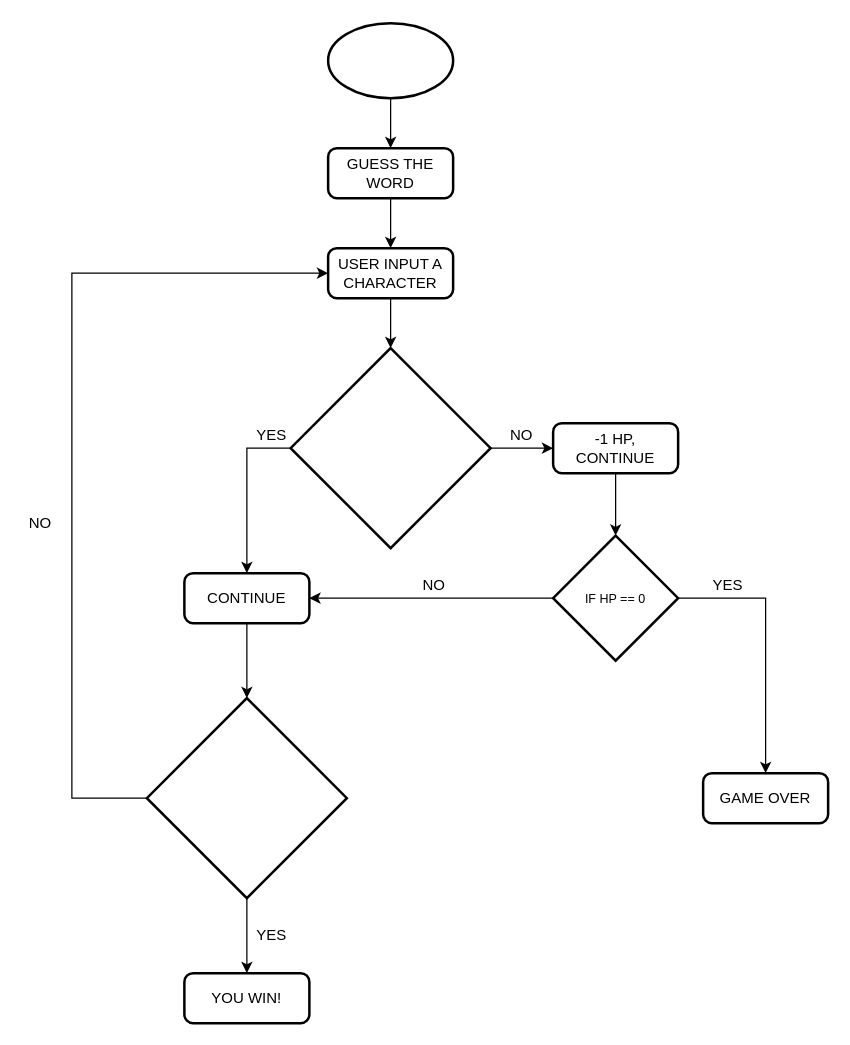
The diagram is 850 pixels wide and 1045 high, and some of its shapes have lost their labels. The shapes that lost their labels are listed below. From the top down, each one's centre as x and y in pixels, then its label:
(390,60): START
(390,447): IF THE WORD CONTAINS THE INPUT LETTER
(246,797): DOES THE WORD HAS BEEN GUESSED?
